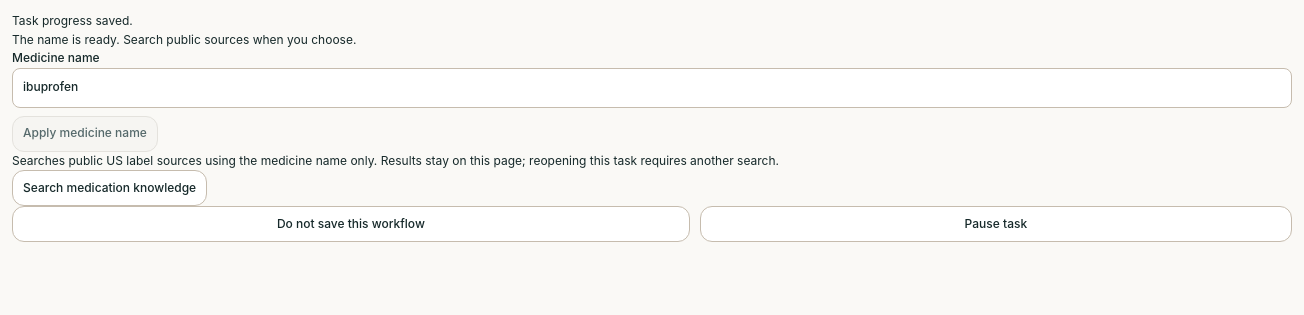
Test: keeps the name after a failed lookup and clears the prior answer when privacy changes
The width and height of the screenshot is (1304, 315).
Click the button "Search medication knowledge" at (110,188), box [12,170,207,206]
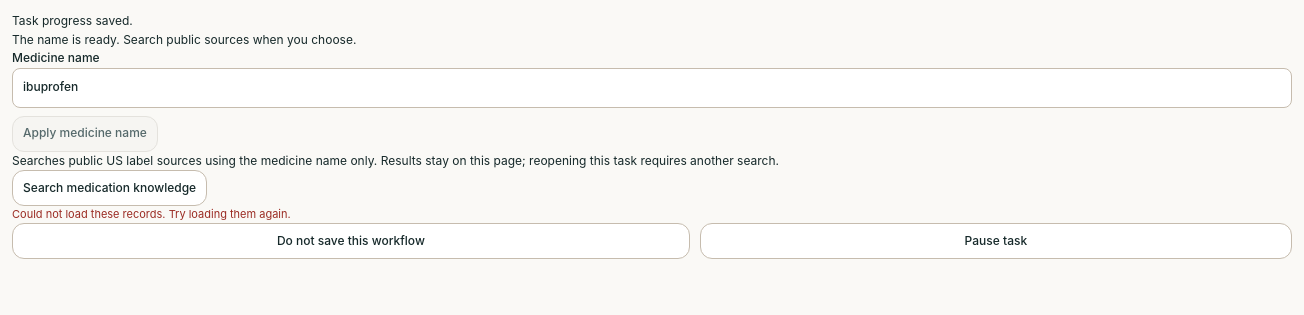
Check: the field labelled "Medicine name" holds "ibuprofen", box [12,68,1292,108]
Check: the message "Could not load these records. Try loading them again." is shown, box [12,207,291,221]
Click the button "Search medication knowledge" at (110,188), box [12,170,207,206]
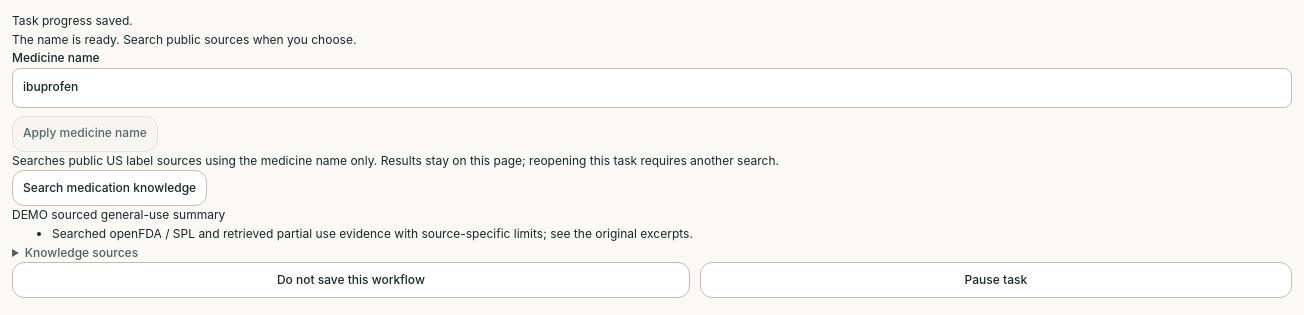
Check: the text "DEMO sourced general-use summary" is shown, box [12,207,225,222]
